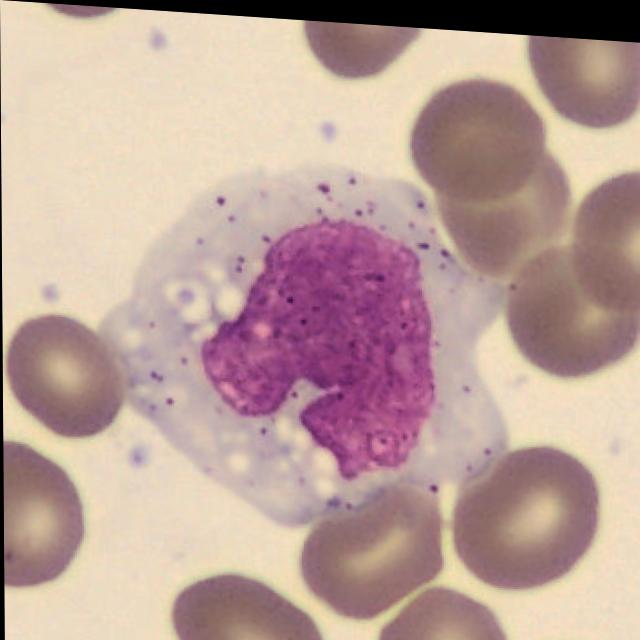Monocito: (98, 161, 511, 526)
